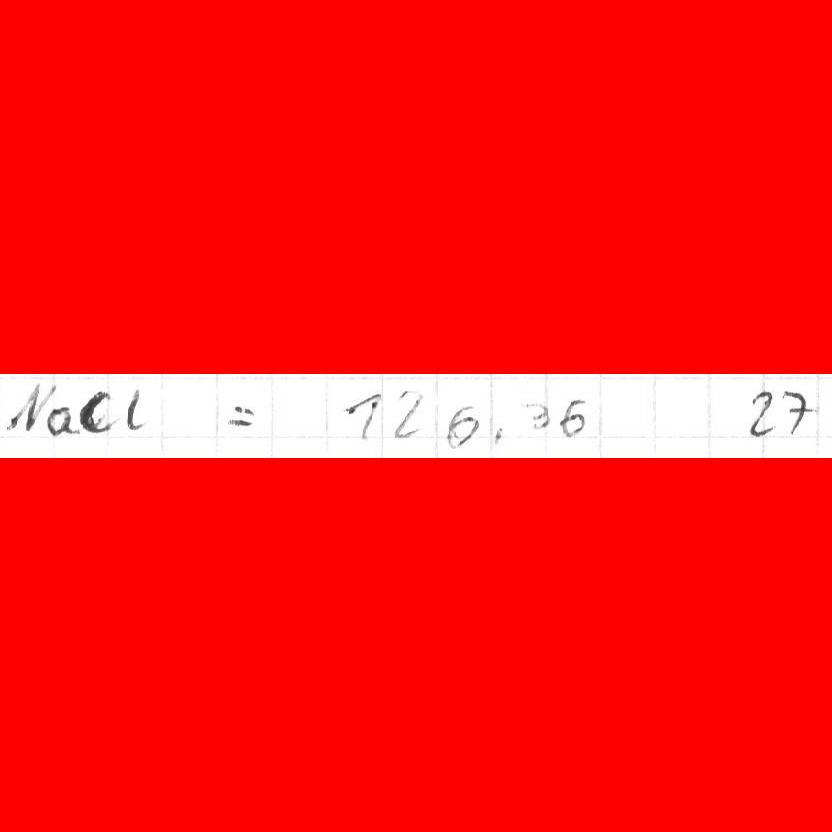Char: (388, 384, 428, 441), (11, 376, 51, 431), (343, 388, 385, 440), (74, 386, 118, 434), (446, 400, 482, 449), (782, 387, 814, 437), (557, 394, 589, 438), (750, 388, 778, 437), (42, 402, 78, 438), (126, 387, 154, 433), (522, 398, 554, 435), (225, 402, 256, 428), (490, 422, 510, 442)
